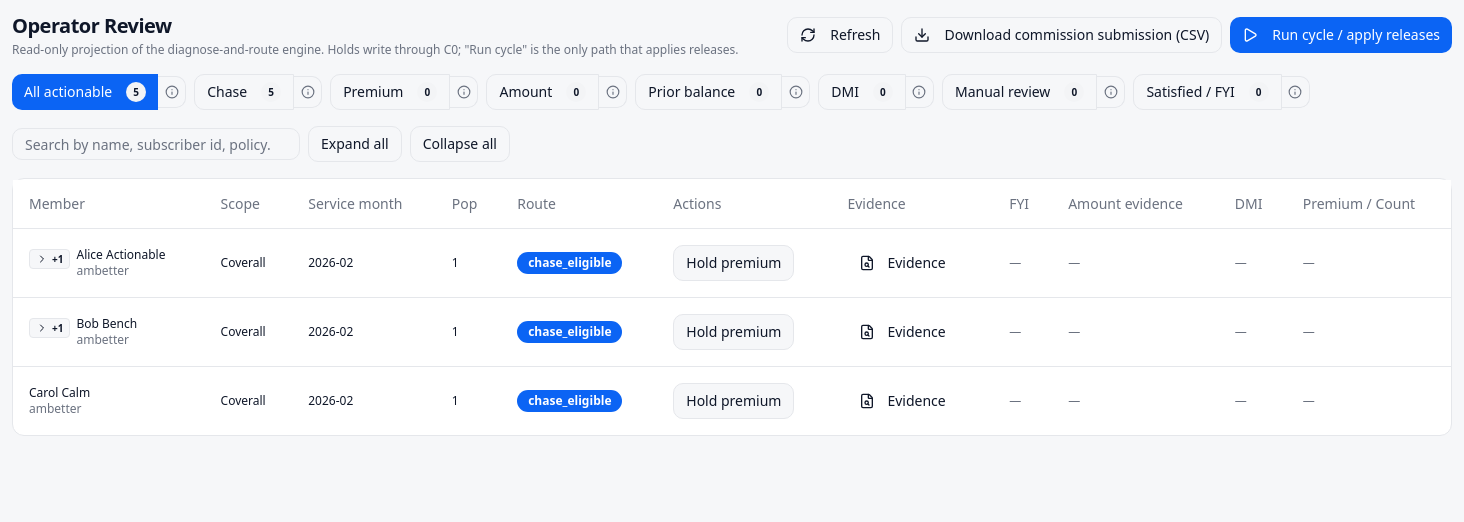
OperatorReviewPage — C2c slice 1 member search + grouping › groups same-member months contiguously; default collapsed; +N toggle on multi-row members only
Expected: the number of rows with test id "op-row" is 3, [13,228,1451,297]; [13,297,1451,366]; [13,366,1451,434]
// Expand alice → her March row appears immediately below Feb.
Click the button with test id "member-toggle".
click(50, 258)  # box [29,248,70,268]
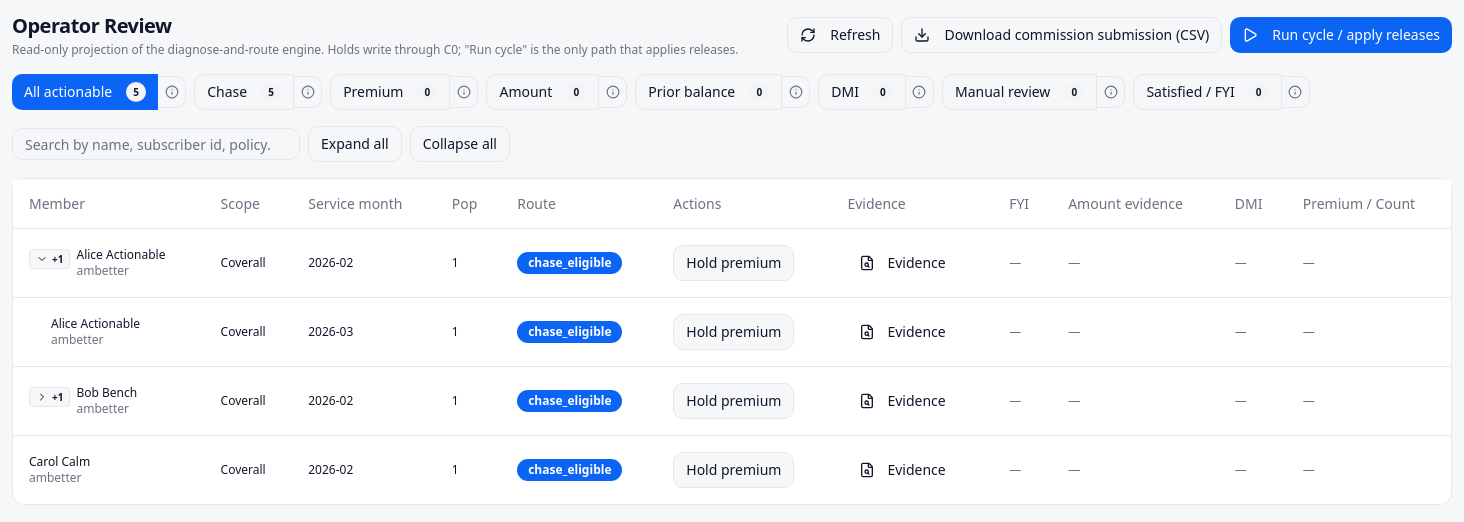
Now the number of rows with test id "op-row" is 4, box [13,228,1451,297]; [13,297,1451,366]; [13,366,1451,435]; [13,435,1451,504]
